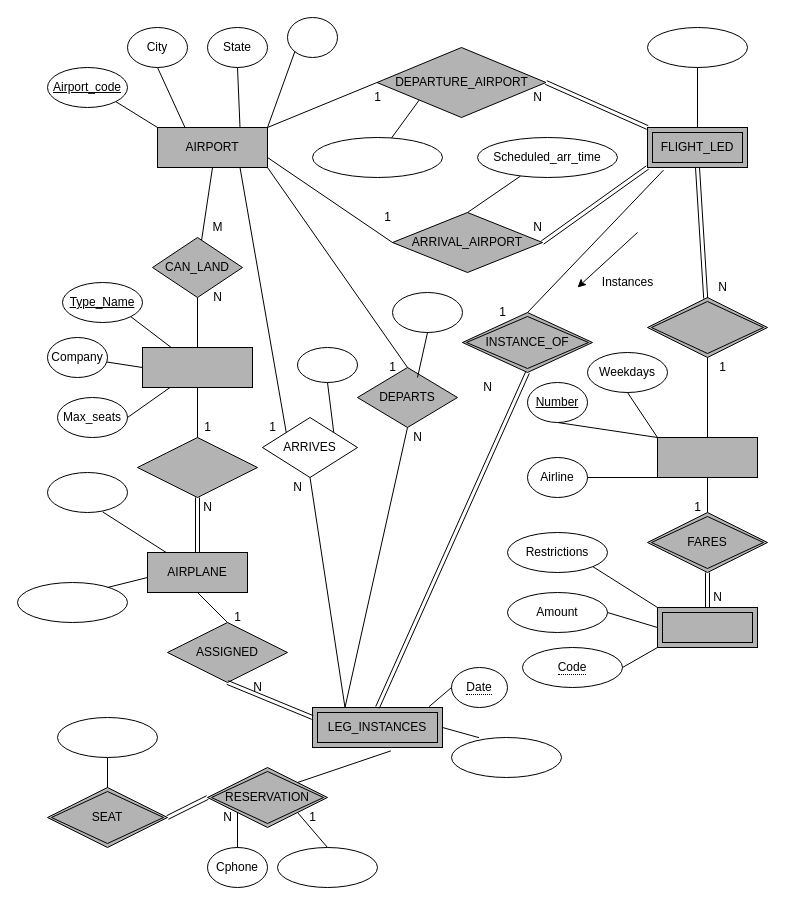
Some shapes in this 785 by 905 pixel diagram are drawn without their labels. Each missing label, with the centre of its shape:
Airplane_id: the point at 87,492
AIRPLANE_TYPE: the point at 197,367
Arr_time: the point at 327,364
Customer_name: the point at 327,867
Dep_time: the point at 427,312
FARE: the point at 707,627
FLIGHT: the point at 707,457
Leg_no: the point at 697,47
Legs: the point at 707,327
Name: the point at 312,37
No_of_avail_seats: the point at 506,757
Scheduled_dep_time: the point at 377,157
Seat_no: the point at 107,737
Total_no_of_seats: the point at 72,602
TYPE: the point at 197,467
